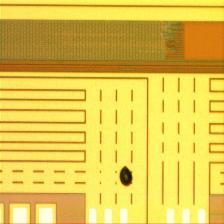PARTICLE: (115, 166, 138, 188)
